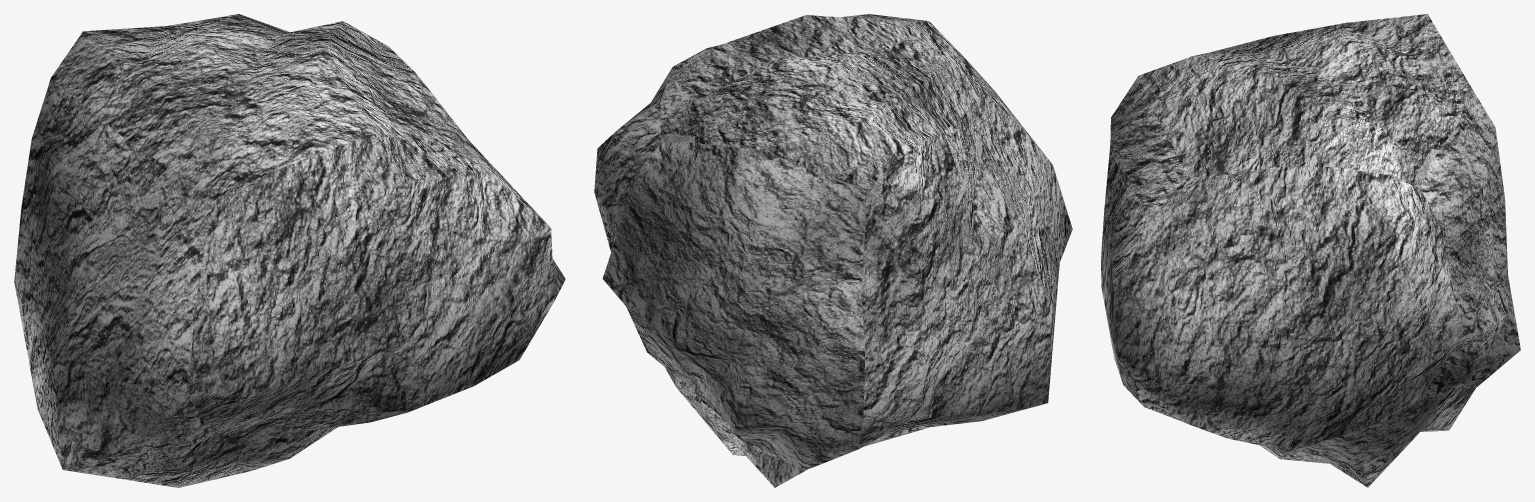
File: rock.FBX
The picture shows the model from 3 angles, left to right: view 1: azimuth 30°, elevation 25°; view 2: azimuth 150°, elevation 25°; view 3: azimuth 270°, elevation 25°; orthographic projection. The views are drawn at different scales.
Parts seen in each view (by area): view 1: rockLP001; view 2: rockLP001; view 3: rockLP001.
Boxes of the visible parts, <box> form: rockLP001: <box>14,14,565,487</box>; rockLP001: <box>594,14,1072,487</box>; rockLP001: <box>1101,14,1520,487</box>.
Size of the model in its own units: 2.62 by 2.39 by 2.23.
